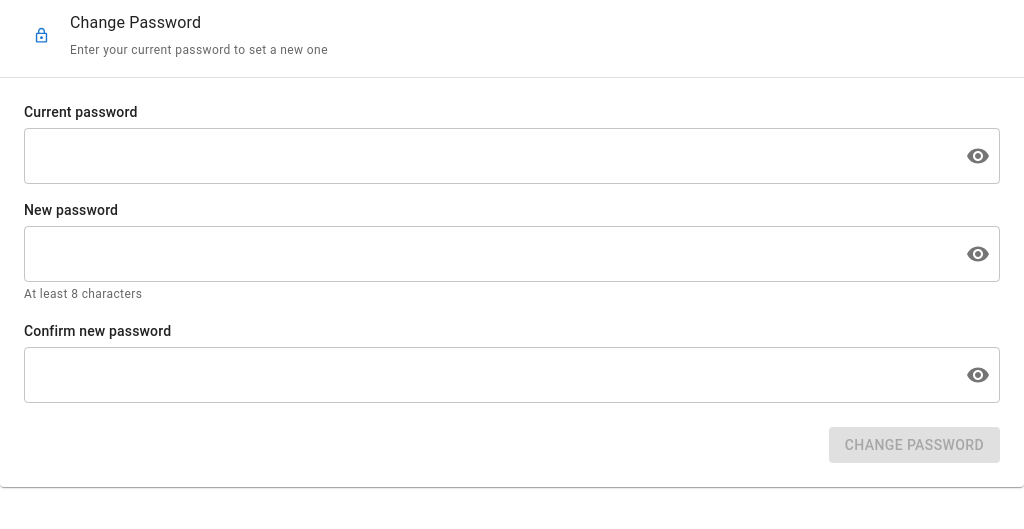
Test: PasswordForm › keeps the button disabled until the form is complete and valid
Expected: the button "Change password" is disabled, [829,427,1000,464]
Type "old-pass" into the 1st password field named "currentPassword" at (487, 156), box [24,128,950,184]
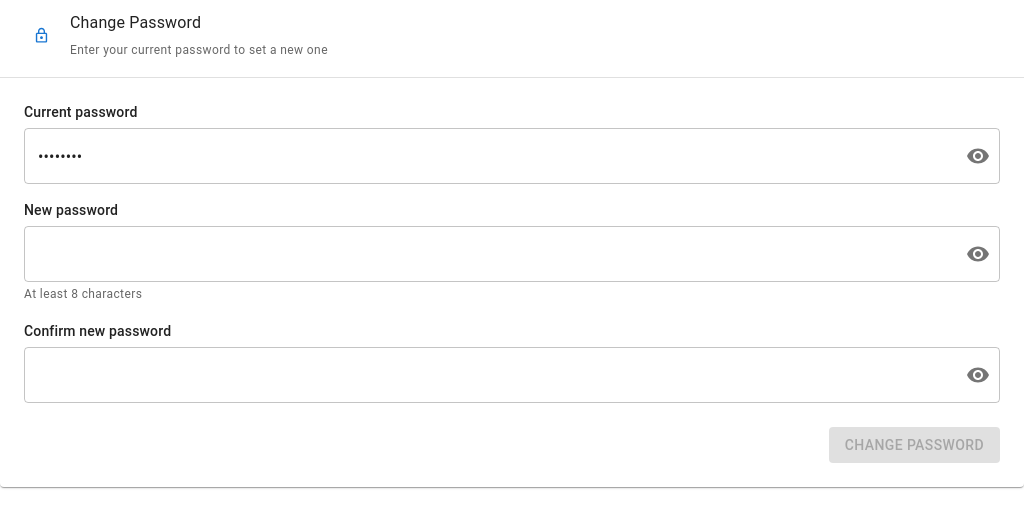
Type "short" into the 2nd password field at (487, 254), box [24,226,950,282]
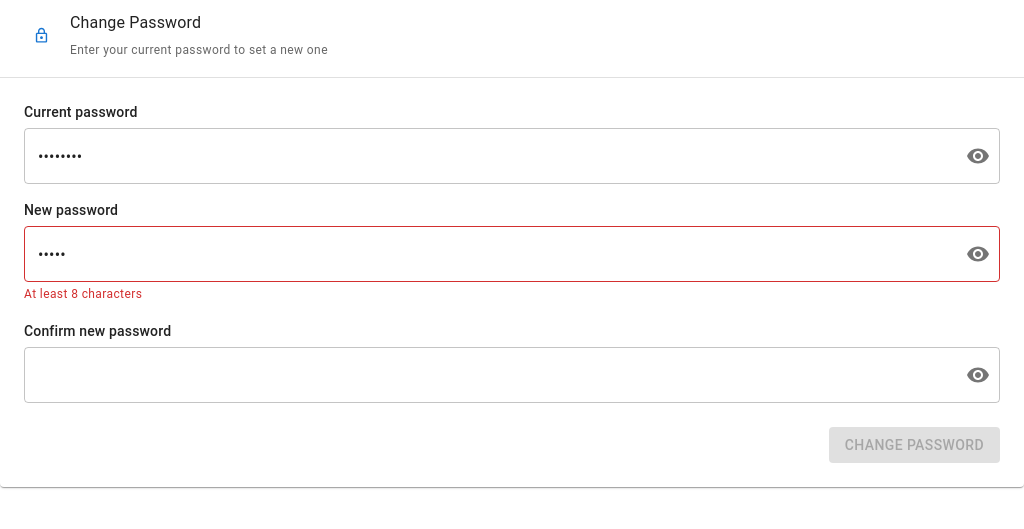
Type "short" into the password field below "Confirm new password" at (487, 375), box [24,347,950,403]
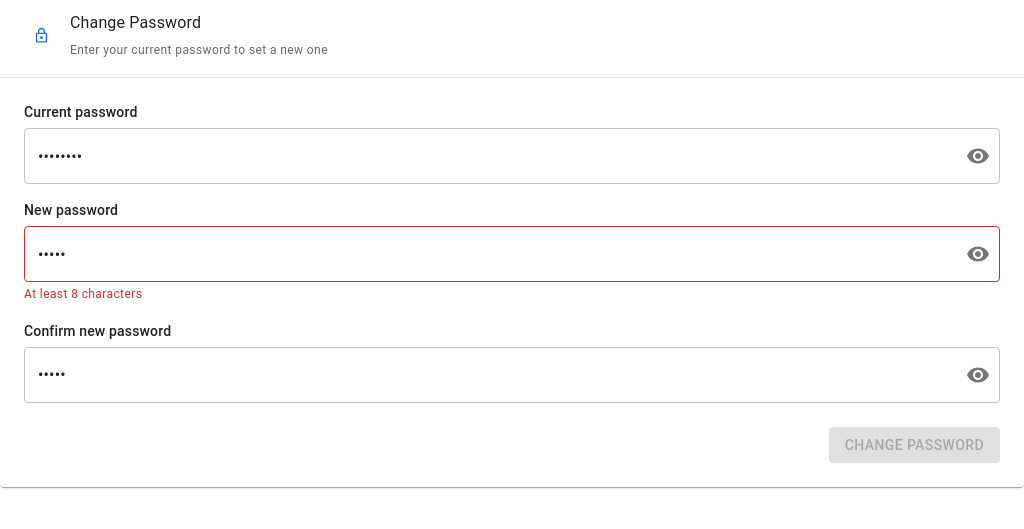
Expected: the button "Change password" is disabled, [829,427,1000,464]
Type "new-pass-1" into the 2nd password field at (487, 254), box [24,226,950,282]
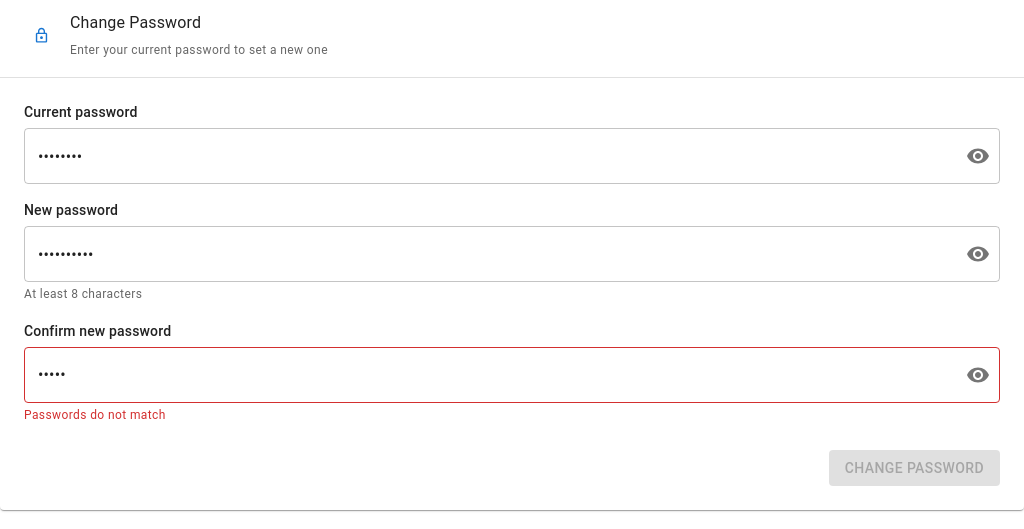
Expected: the button "Change password" is disabled, [829,450,1000,486]
Now the text "Passwords do not match" is shown, box [24,408,166,422]
Type "new-pass-1" into the password field below "Confirm new password" at (487, 375), box [24,347,950,403]
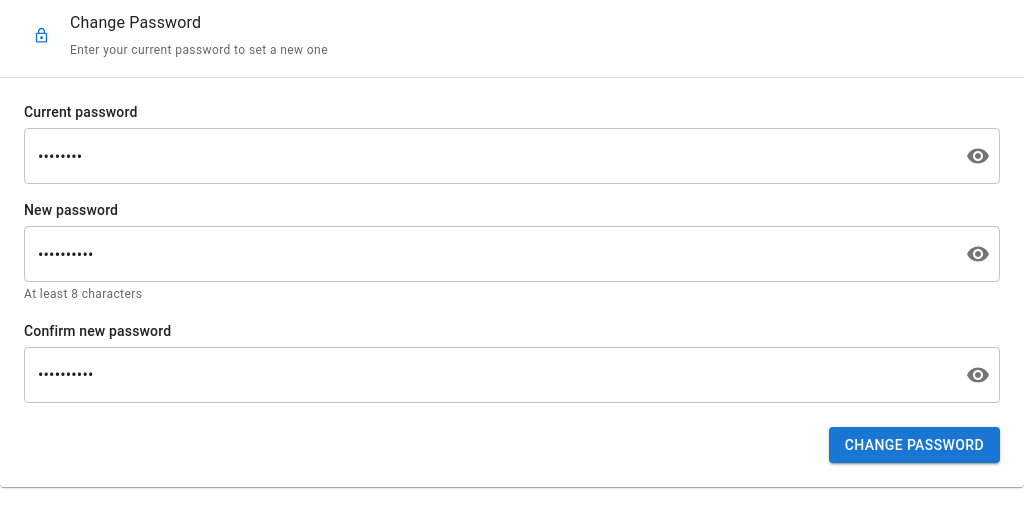
Now the text "Passwords do not match" is gone
Now the button "Change password" is enabled, box [829,427,1000,464]
